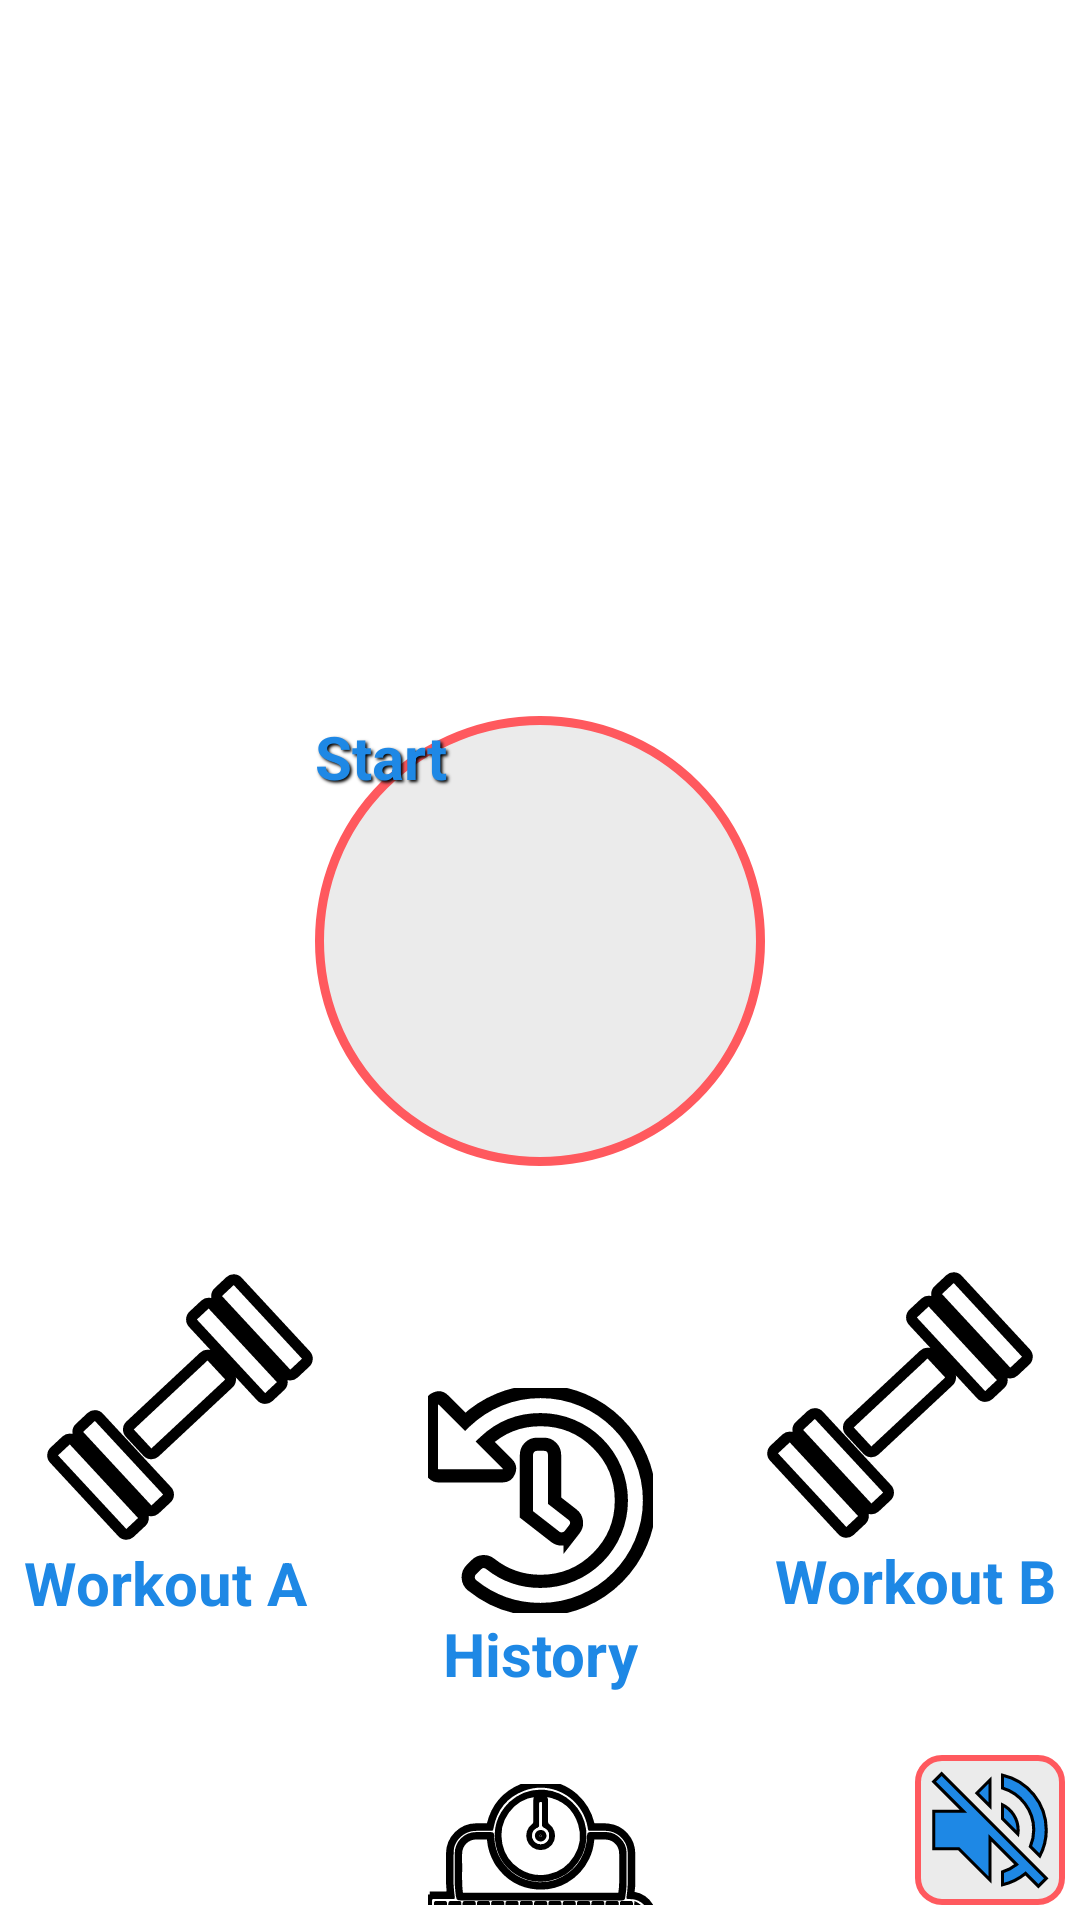

Screen size 1080 × 1920. Icon name, then its center in pixels as (x,y):
Sound: (990,1830)
